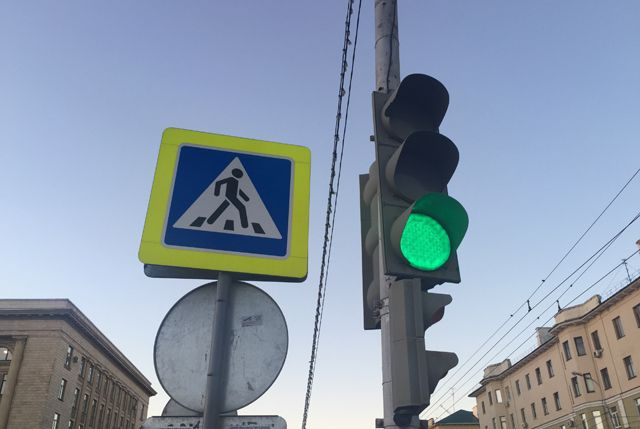tl: (368, 69, 475, 285)
